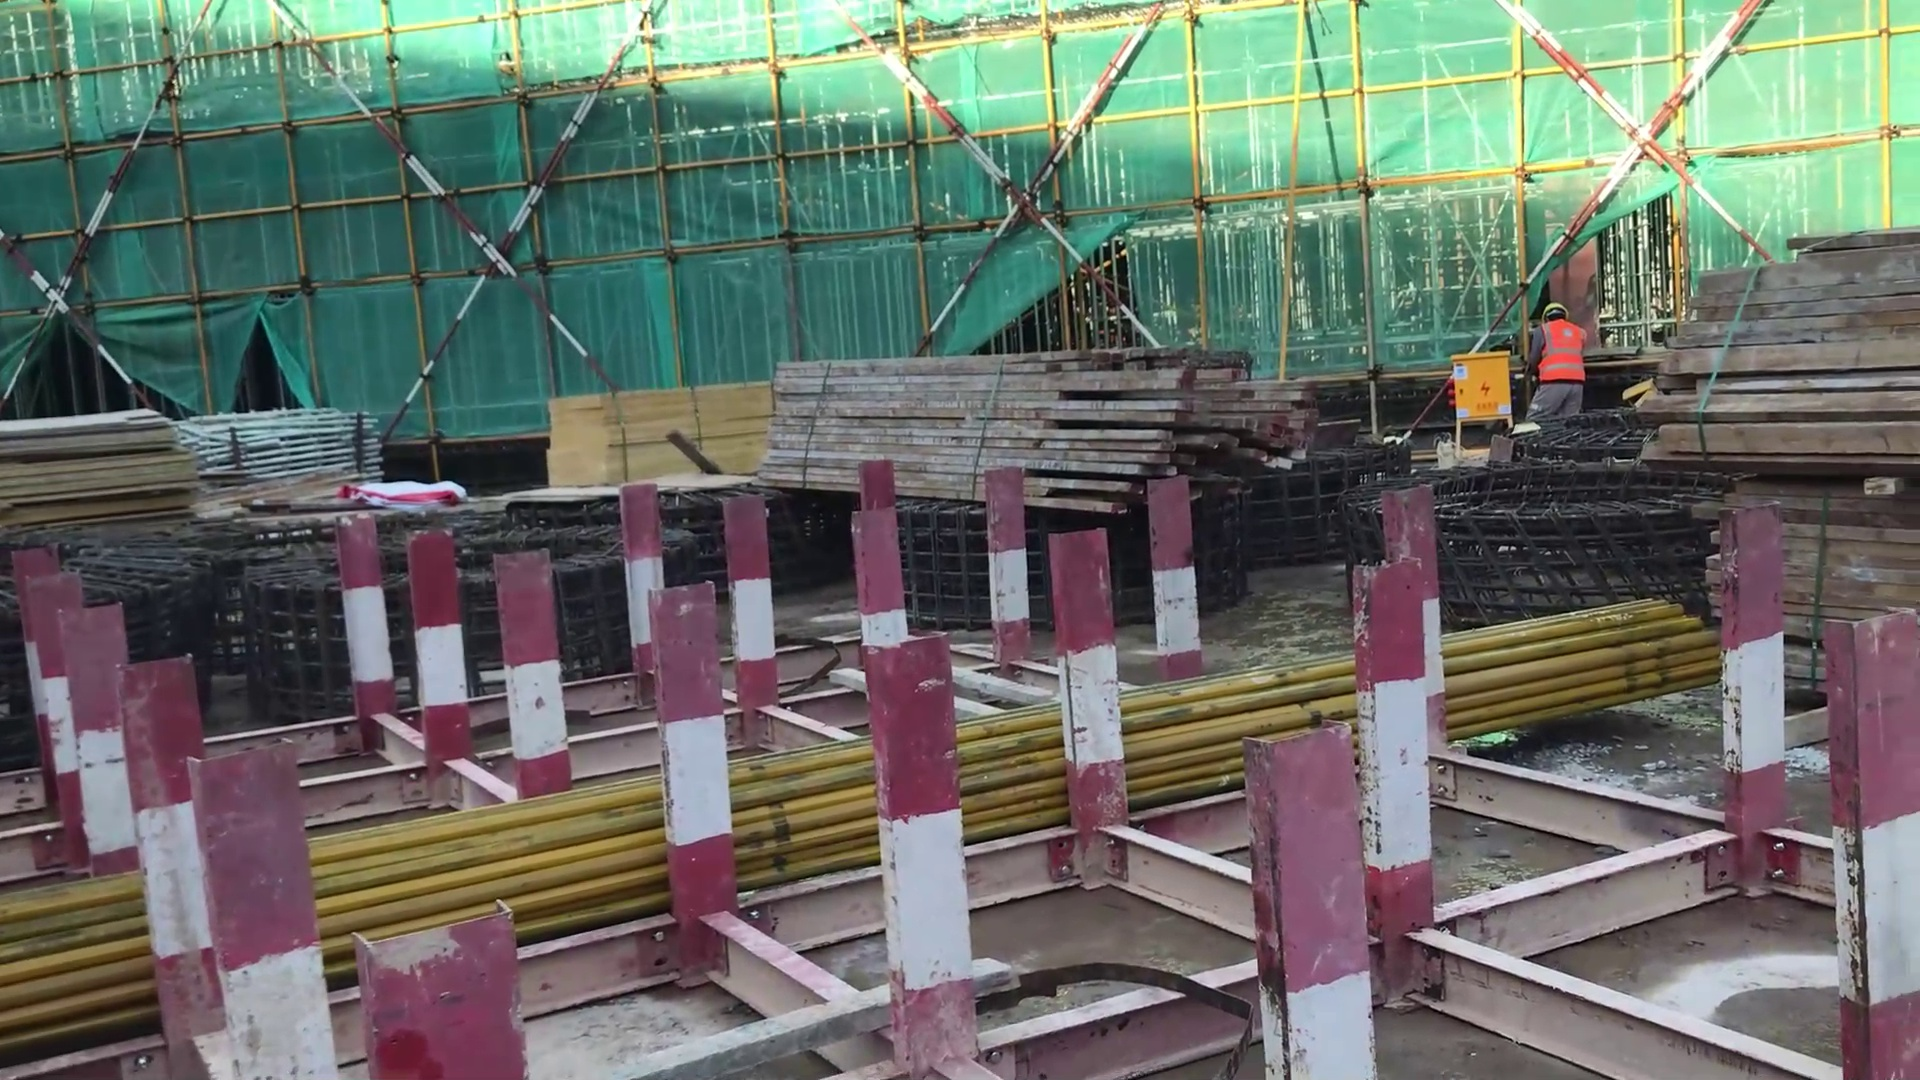ebox: (1447, 342, 1531, 436)
vest: (1528, 316, 1600, 382)
wood: (1604, 207, 1920, 673), (742, 335, 1320, 506)
